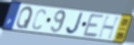9: (50, 10, 67, 34)
C: (31, 8, 47, 31)
E: (82, 13, 106, 39)
H: (97, 15, 122, 41)
J: (65, 12, 85, 36)
Q: (15, 6, 34, 30)
